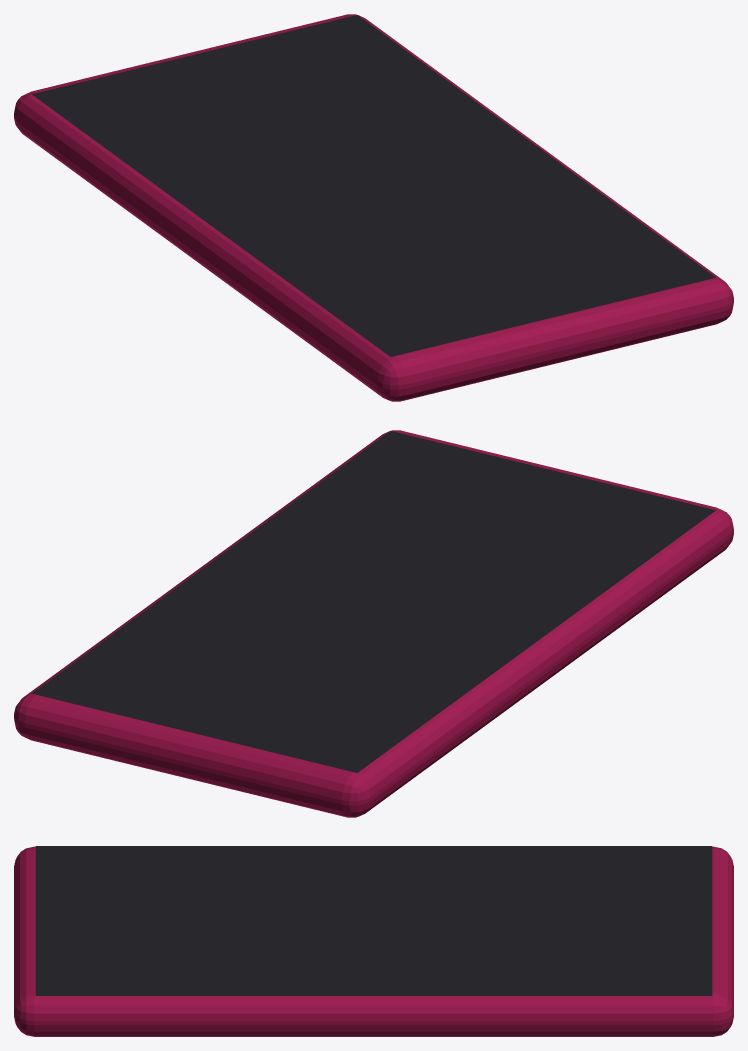
Rendered from Phone_685.glb.
3 views of the same model, one above another, from view 1: azimuth 30°, elevation 25°; view 2: azimuth 150°, elevation 25°; view 3: azimuth 270°, elevation 25° (orthographic). The views are drawn at different scales.
Parts seen in each view (by area): view 1: Phone_Screen, Phone_Body; view 2: Phone_Screen, Phone_Body; view 3: Phone_Screen, Phone_Body.
Part boxes in pixels (x1=…): Phone_Screen: x1=32, y1=15, x2=715, y2=356; Phone_Body: x1=14, y1=14, x2=733, y2=401; Phone_Screen: x1=32, y1=431, x2=715, y2=772; Phone_Body: x1=14, y1=430, x2=733, y2=817; Phone_Screen: x1=35, y1=846, x2=712, y2=995; Phone_Body: x1=14, y1=846, x2=733, y2=1036.
Size of the model in its own units: 0.0799 by 0.0094 by 0.1493.
